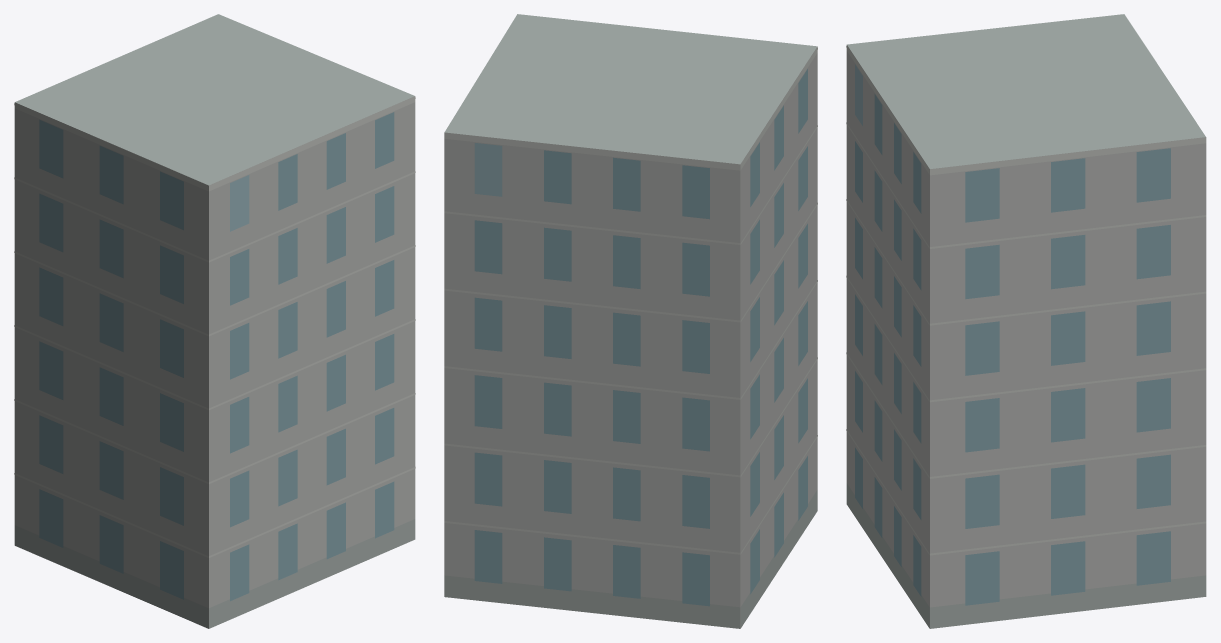
The model's file is survey-upis-32761049.glb.
3 renders of one model, left to right at view 1: azimuth 30°, elevation 25°; view 2: azimuth 150°, elevation 25°; view 3: azimuth 270°, elevation 25°, orthographic. The views are drawn at different scales.
Parts seen in each view (by area): view 1: survey-upis-32761049.tmp; view 2: survey-upis-32761049.tmp; view 3: survey-upis-32761049.tmp.
Part boxes in pixels (x1,y1,x2,y2): survey-upis-32761049.tmp: (14, 14, 415, 628); survey-upis-32761049.tmp: (444, 14, 817, 628); survey-upis-32761049.tmp: (846, 14, 1206, 628).
Size of the model in its own units: 13.06 by 18 by 12.78.
